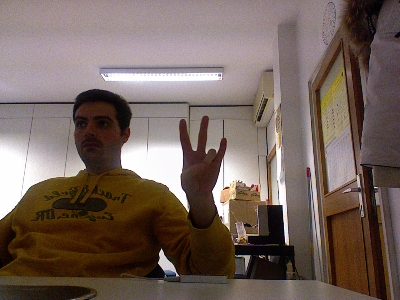观音: (177, 114, 227, 195)
